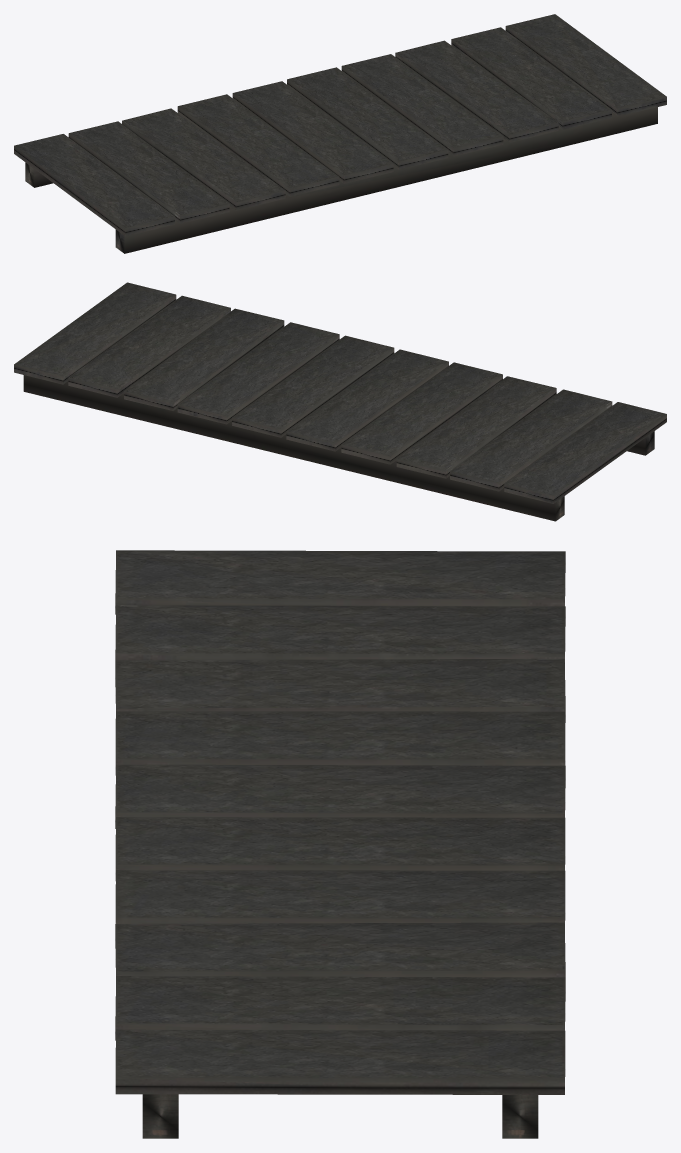
Rendered from boardwalk.glb.
3 views of the same model, one above another, from view 1: azimuth 30°, elevation 25°; view 2: azimuth 150°, elevation 25°; view 3: azimuth 270°, elevation 25° (orthographic). The views are drawn at different scales.
Visible parts, largest first — view 1: boardwalk; view 2: boardwalk; view 3: boardwalk.
Part boxes in pixels (left/top/right/bottom): boardwalk: left=14, top=14, right=666, bottom=253; boardwalk: left=14, top=282, right=666, bottom=521; boardwalk: left=115, top=550, right=565, bottom=1138.
Size of the model in its own units: 4.17 by 0.2337 by 1.5.
1 material, 1 textured.
